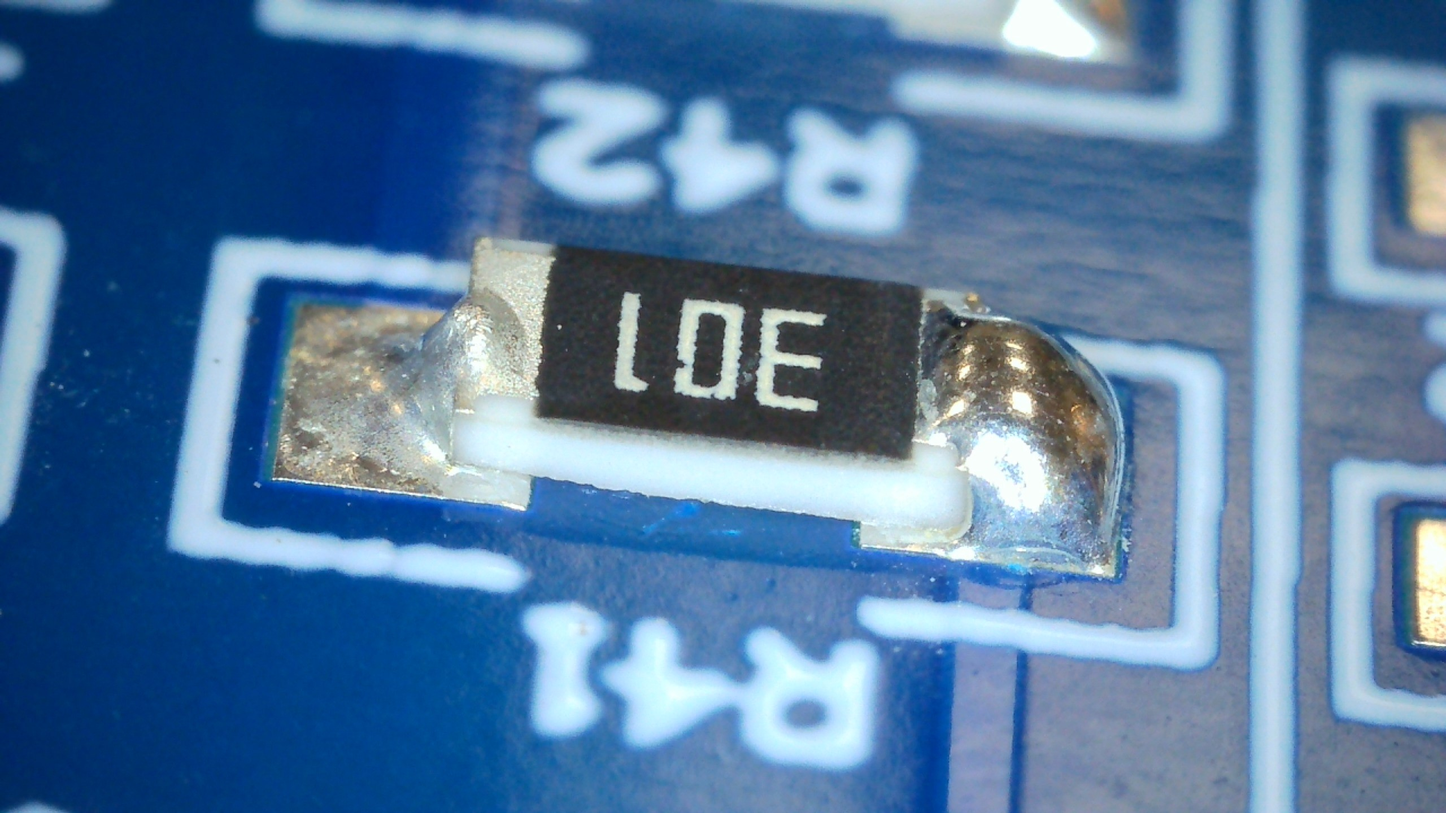NG: (306, 242, 542, 483), (916, 298, 1116, 561), (423, 298, 520, 411)
